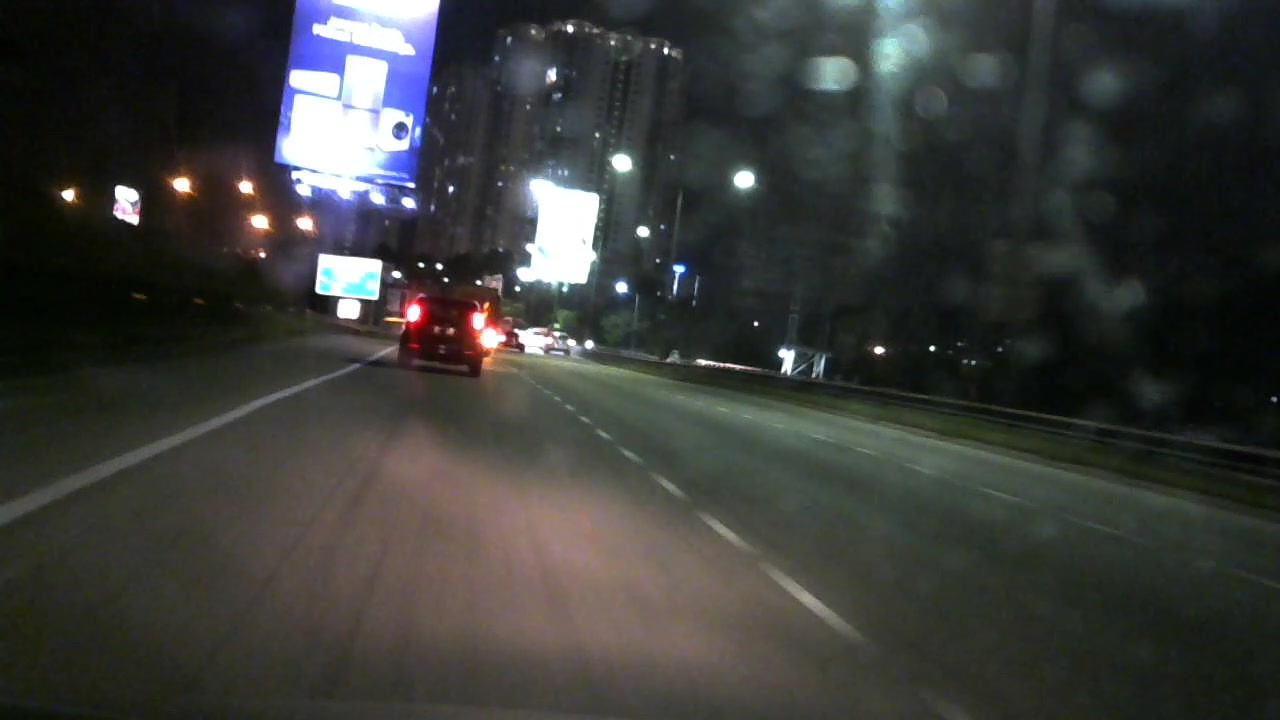Car: (386, 294, 490, 370), (536, 325, 583, 357), (499, 329, 522, 349)
